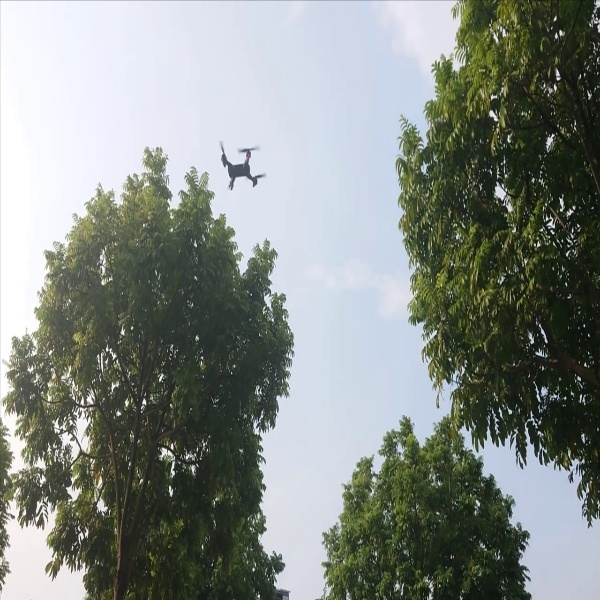drone: (214, 131, 273, 195)
